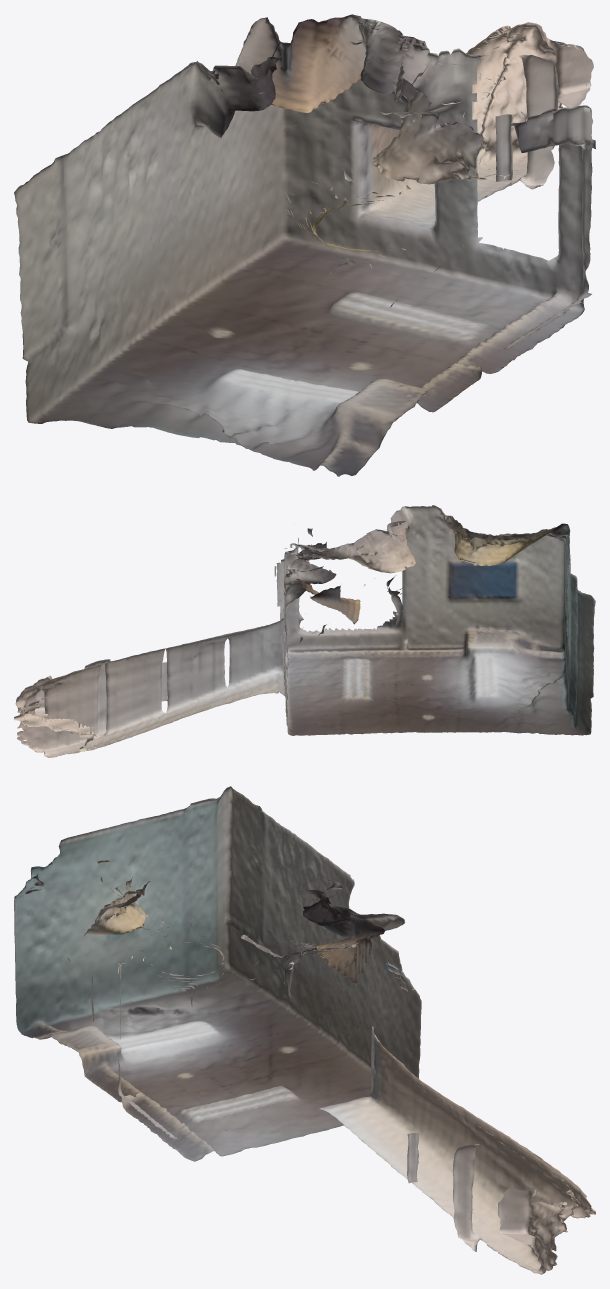
Rendered from world1glb.glb.
3 renders of one model, top to bottom at view 1: azimuth 30°, elevation 25°; view 2: azimuth 150°, elevation 25°; view 3: azimuth 270°, elevation 25°, orthographic. The views are drawn at different scales.
Visible parts, largest first — view 1: world; view 2: world; view 3: world.
Boxes of the visible parts, x1,y1,x2,y2 form: world: (14,14,595,476); world: (14,505,595,757); world: (14,786,595,1274).
Bounding box in the file's own units: 6.37 × 2.37 × 5.47.
